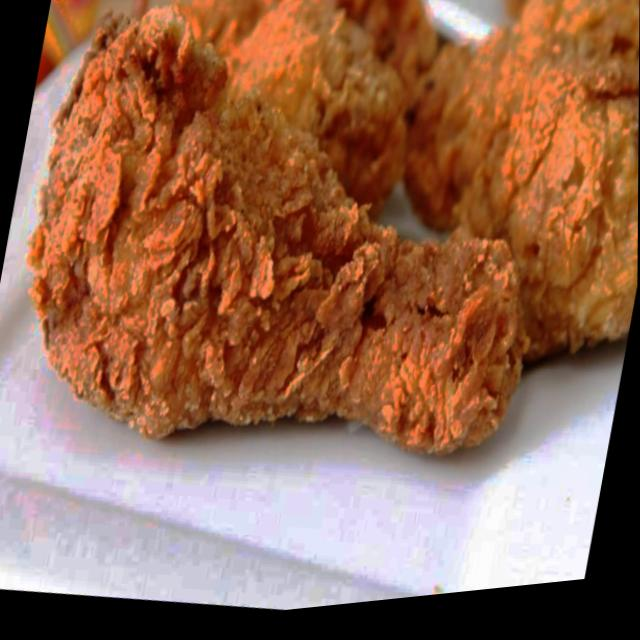fried_chicken: (0, 0, 580, 510), (287, 0, 640, 401)
